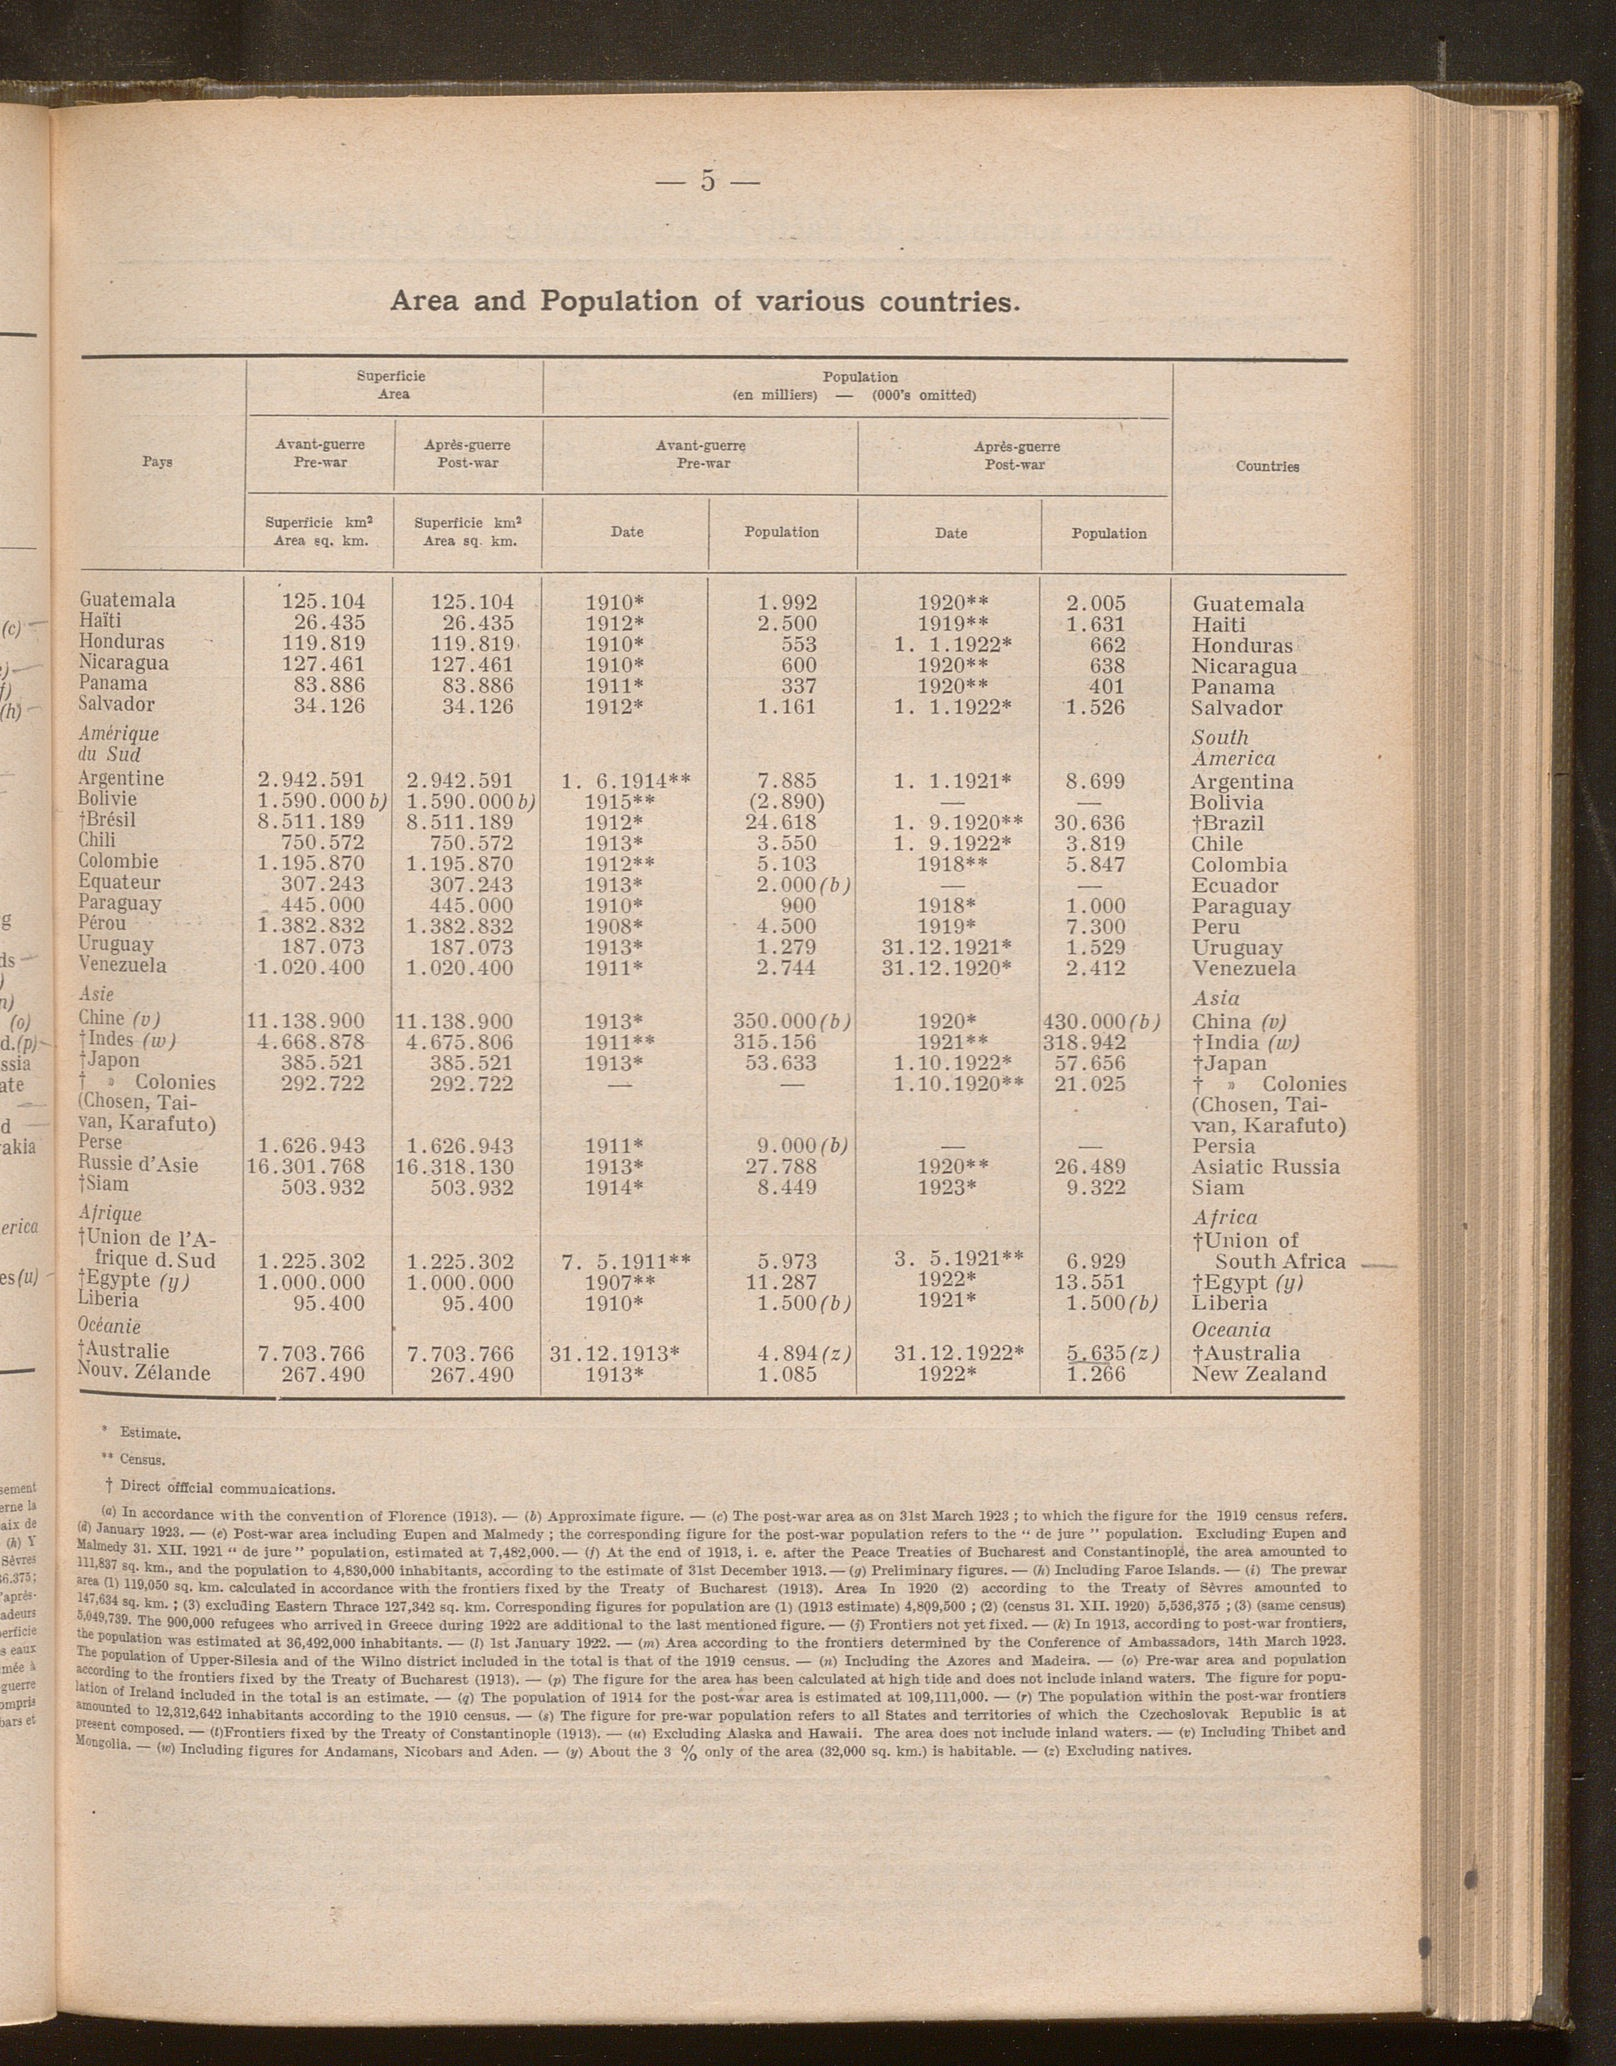MarginTextZone-Notes: (69, 1503, 1357, 1769), (92, 1474, 342, 1502), (92, 1422, 190, 1446), (91, 1448, 170, 1472)
NumberingZone: (645, 162, 772, 202)
TableZone: (40, 238, 1408, 1419)
TableZone-Head: (378, 271, 1031, 325)
